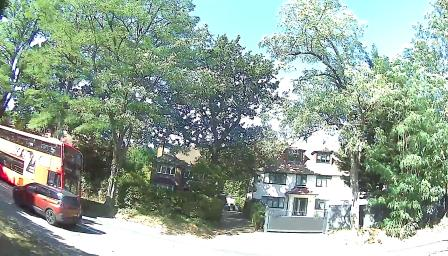Cars: (0, 120, 95, 196), (19, 166, 86, 223)
